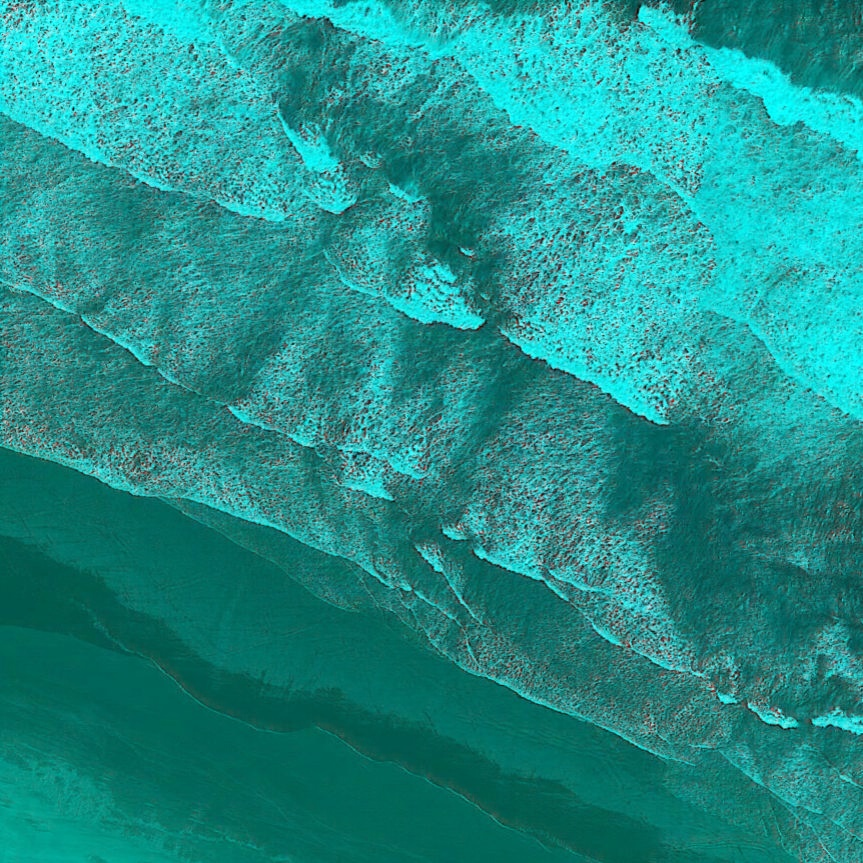rip_current: (277, 51, 567, 577)
